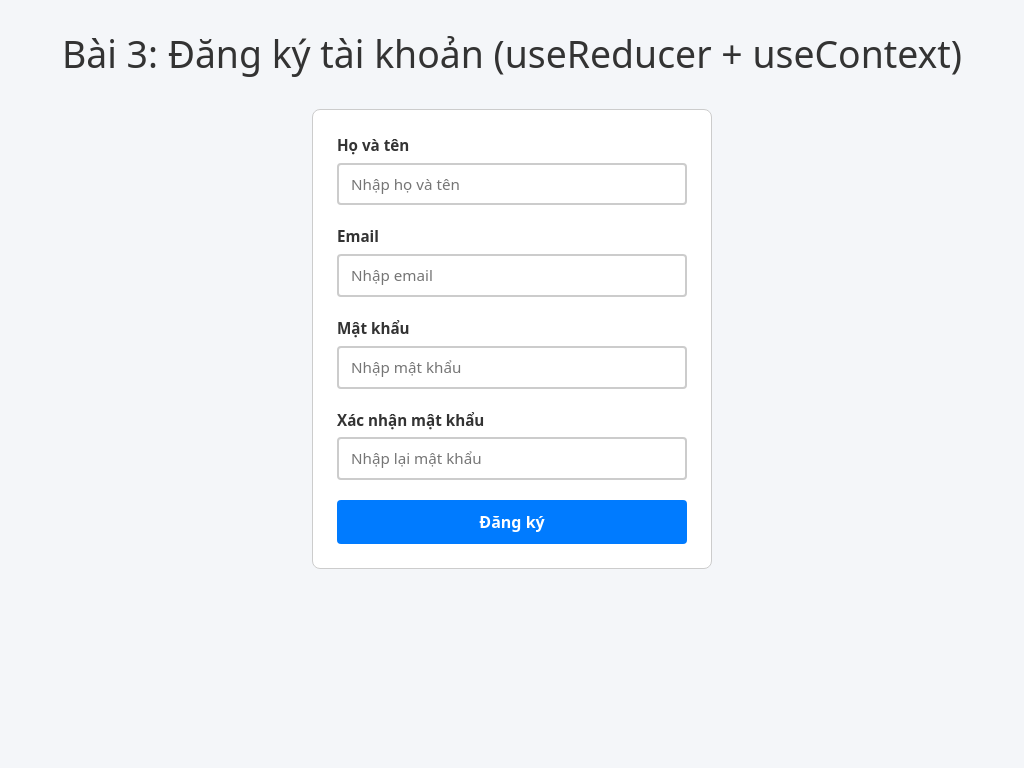
Test: Ex03 – Validation Form (Context + Reducer) › hiển thị lỗi email không hợp lệ
The width and height of the screenshot is (1024, 768).
Type "not-an-email" into the field labelled "Email" at point(512, 276), box [337,254,687,297]
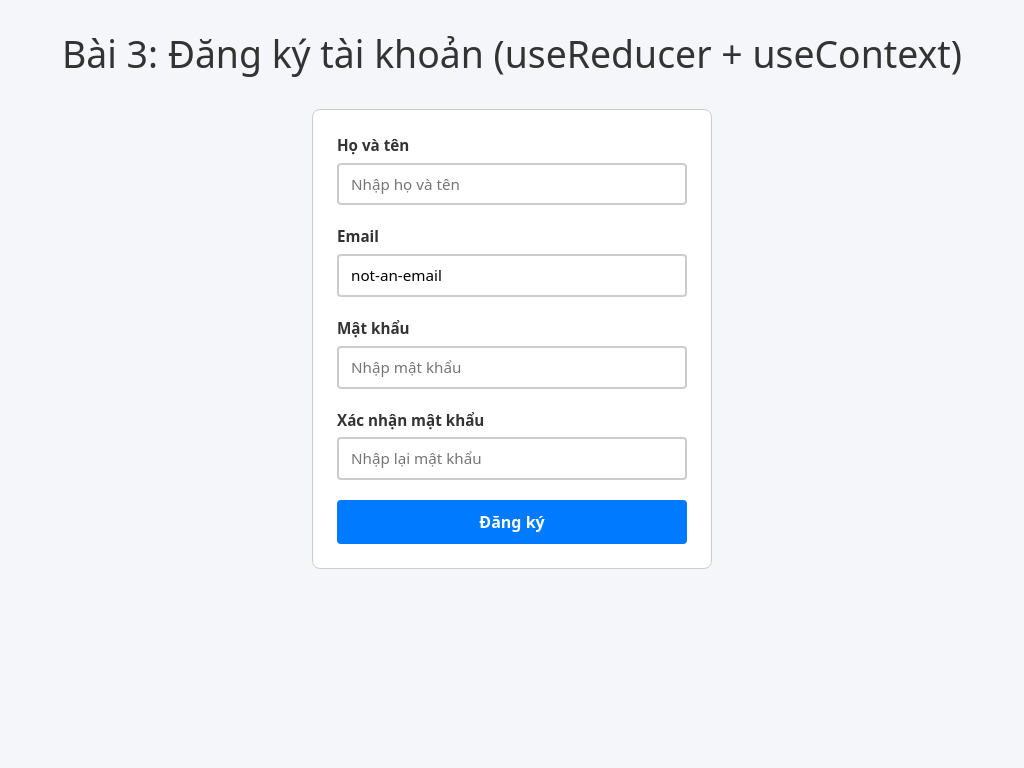
Leave the field labelled "Email", box [337,254,687,297]
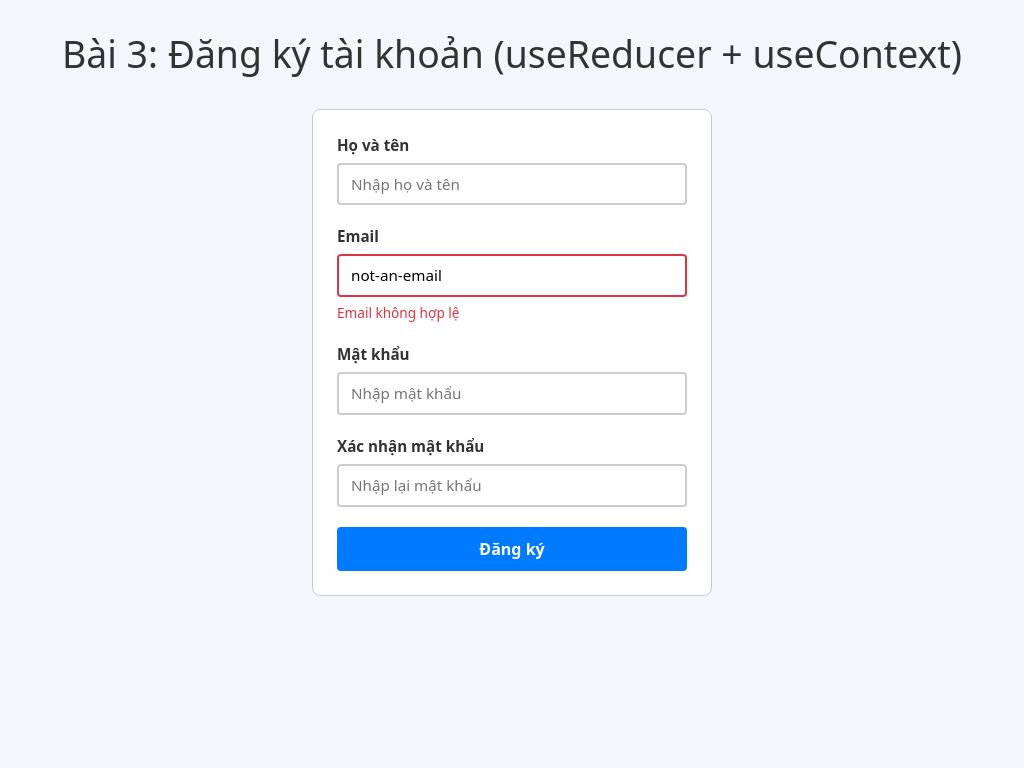
Expected: the text "Email không hợp lệ" is shown, [337,303,460,322]
